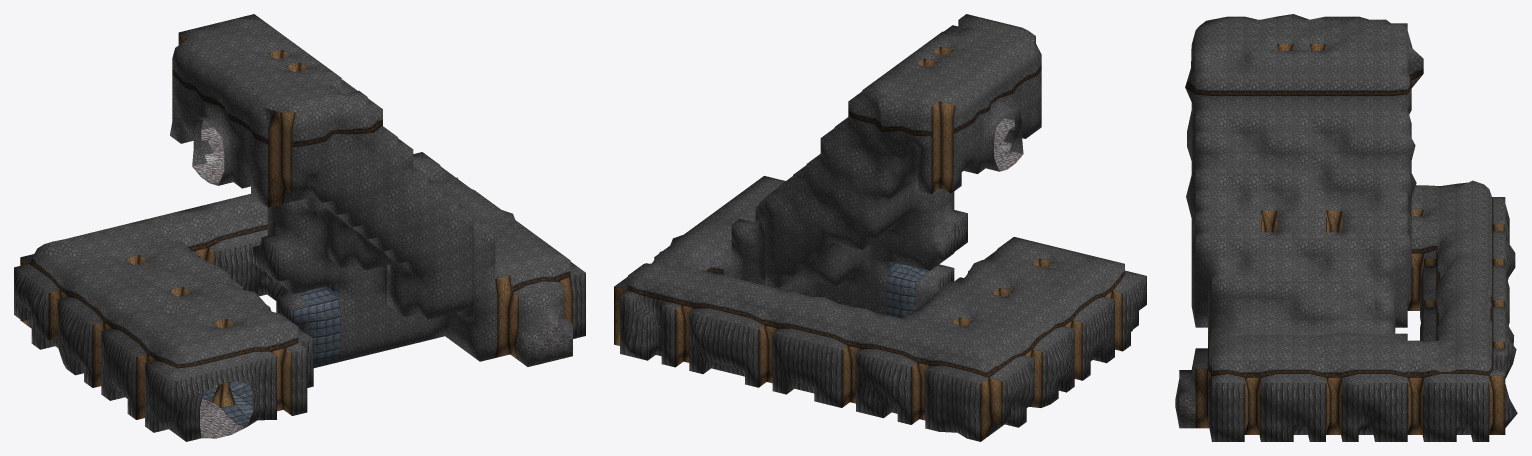
File: 3rd Instance Smooth.FBX
3 views of the same model, side by side, from view 1: azimuth 30°, elevation 25°; view 2: azimuth 150°, elevation 25°; view 3: azimuth 270°, elevation 25° (orthographic). The views are drawn at different scales.
Visible parts, largest first — view 1: ThirdIntance; view 2: ThirdIntance; view 3: ThirdIntance.
Part boxes in pixels (x1,y1,x2,y2): ThirdIntance: (14, 14, 585, 441); ThirdIntance: (614, 14, 1146, 441); ThirdIntance: (1175, 14, 1517, 441).
Size of the model in its own units: 2925 by 1969 by 2100.
